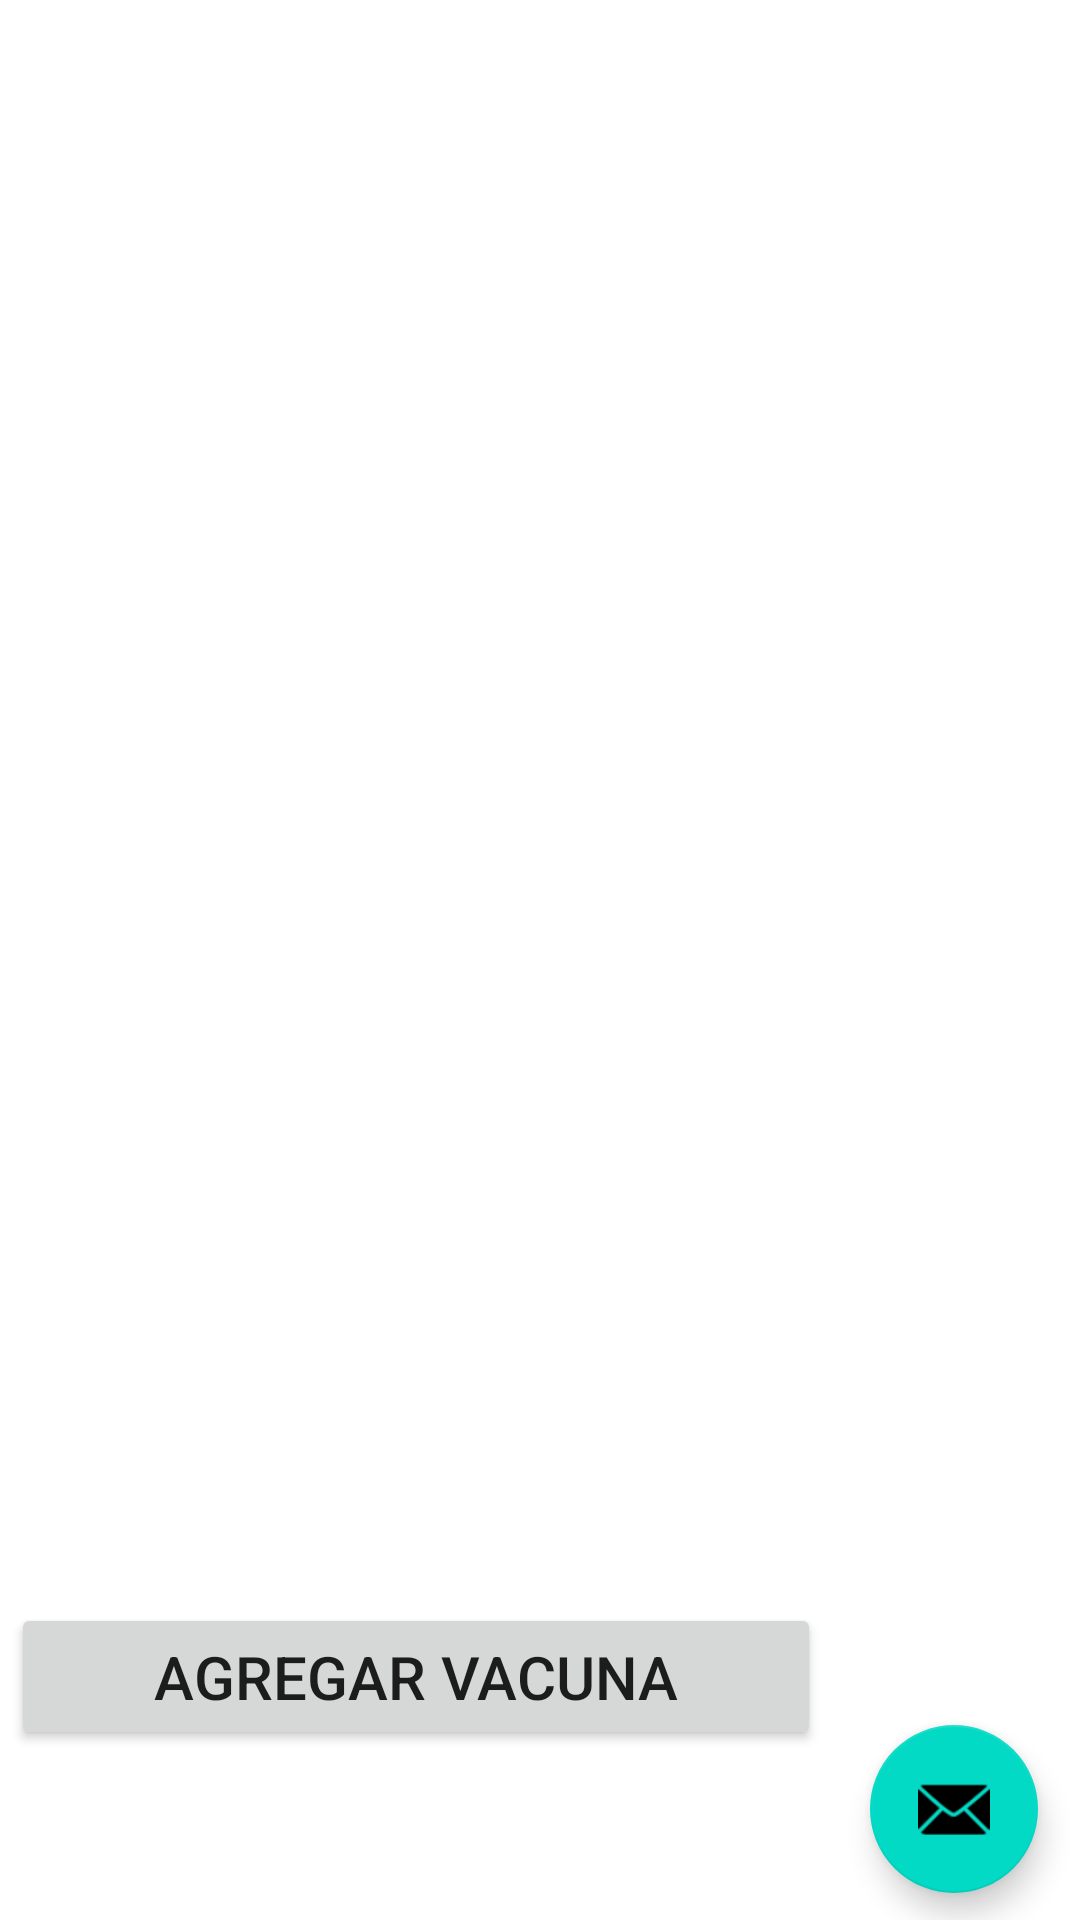

Icons on this 1080px×1920px Android screen, each with its box as (x1, y1, x2, y2):
email: (870, 1725, 1038, 1893)
